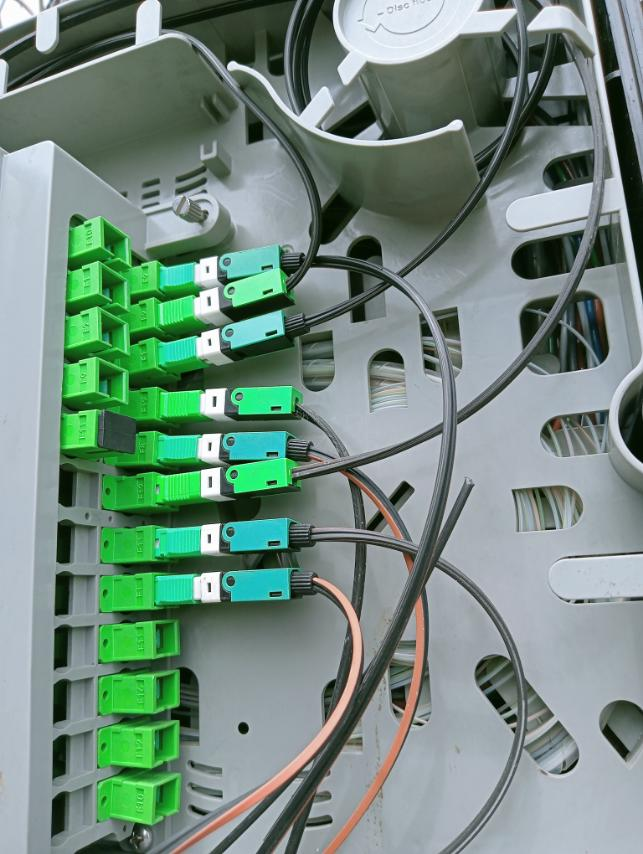no dust cap: (98, 307, 132, 357), (94, 356, 128, 406), (98, 264, 130, 312), (101, 220, 132, 268), (153, 774, 181, 827), (152, 721, 179, 770), (154, 669, 181, 713), (153, 619, 181, 659)
no port: (51, 784, 94, 849), (51, 729, 95, 786), (52, 622, 95, 675), (53, 676, 95, 729), (56, 518, 100, 566), (58, 464, 100, 512), (55, 567, 95, 617)
occupied: (157, 300, 312, 374), (155, 263, 306, 331), (153, 510, 335, 561), (153, 561, 325, 610), (153, 458, 312, 508), (158, 242, 310, 294), (156, 381, 316, 426), (155, 428, 323, 466)
vacant: (95, 408, 140, 458)
